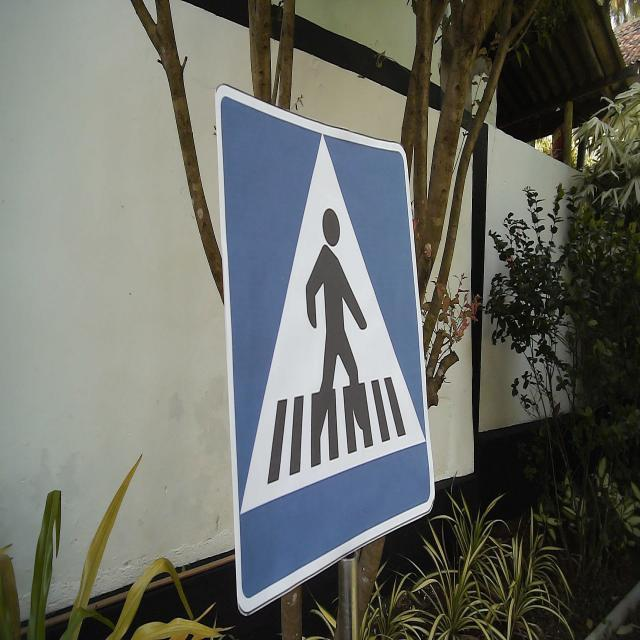crosswalk_sign: (212, 81, 438, 619)
